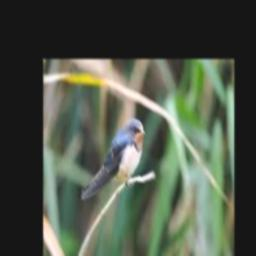Swallow: (79, 119, 144, 200)
